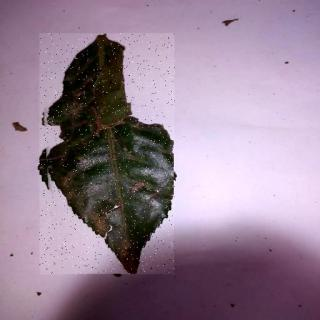Anthracnose: (41, 35, 177, 277)
